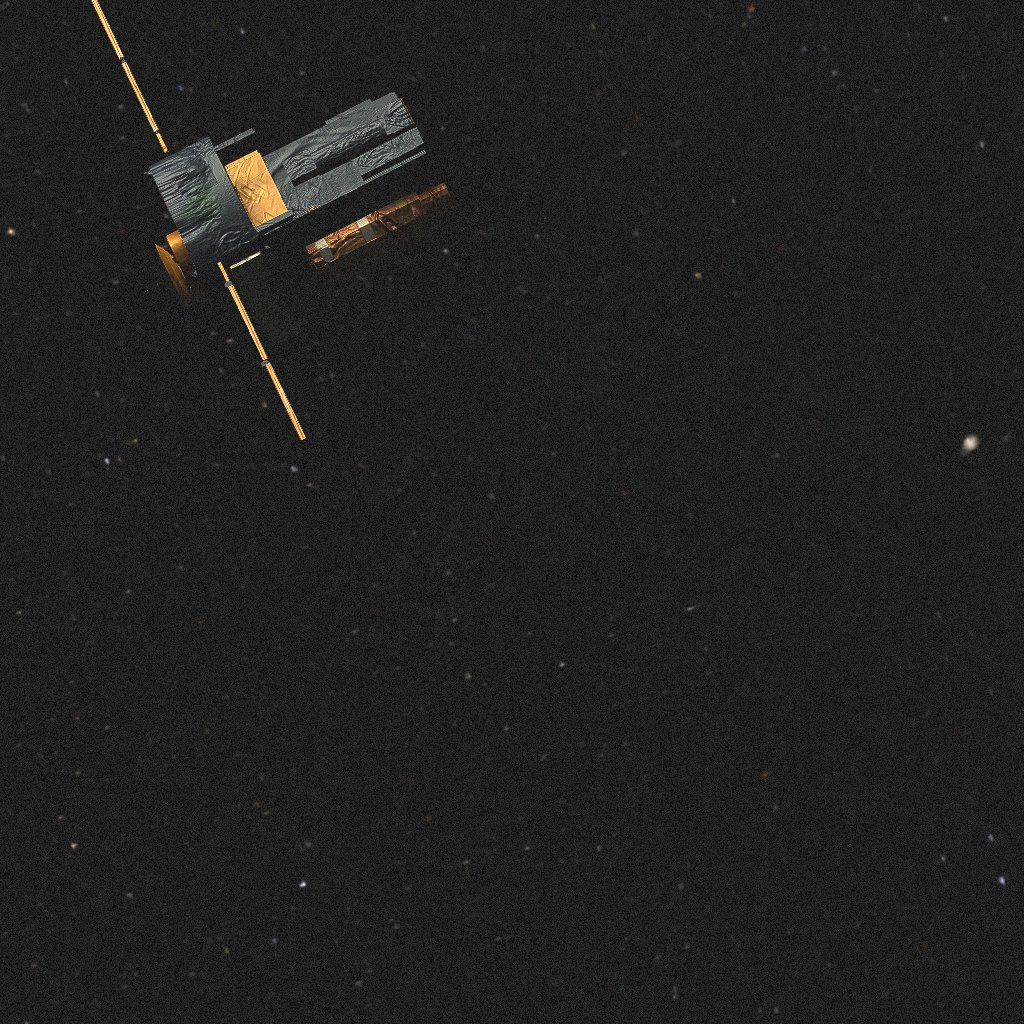soho: (92, 0, 460, 533)
